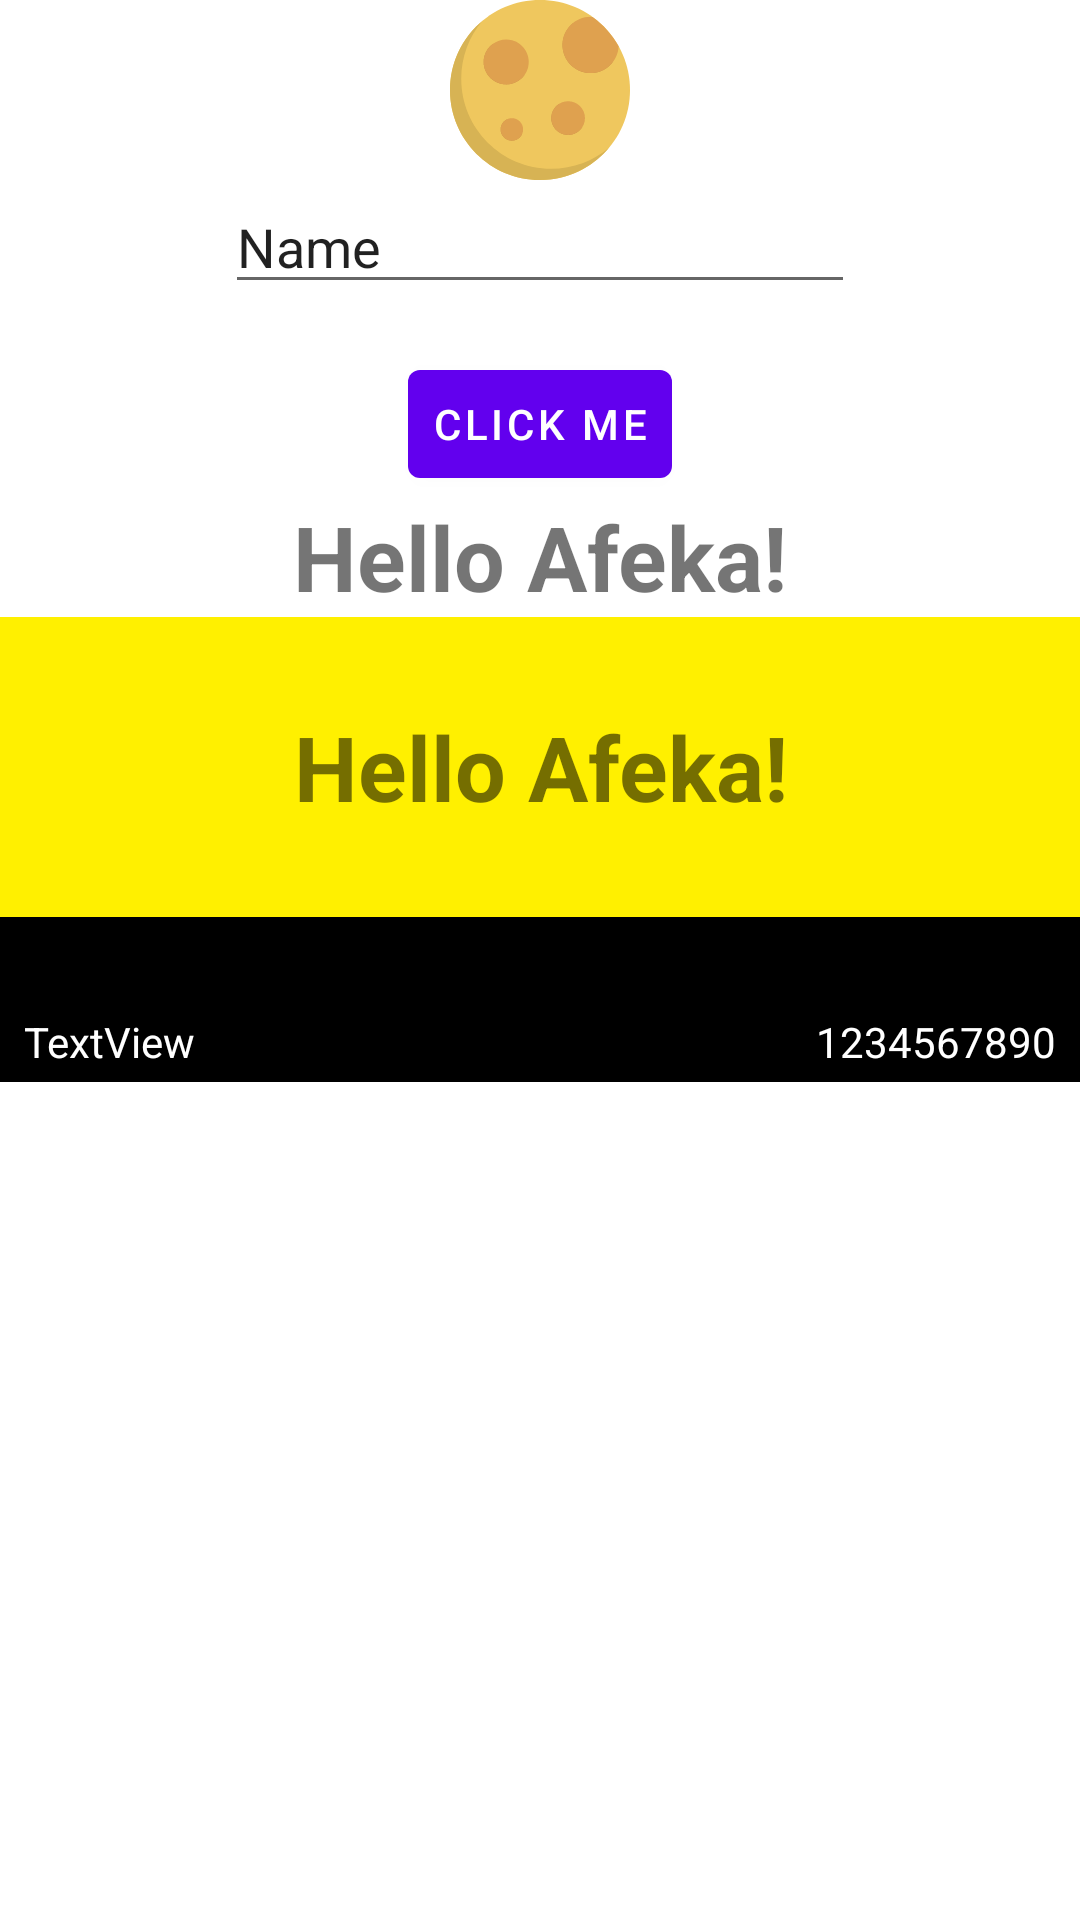

Point at icon controls on the screen. Image size 1080px×1920px, points as (x=x, y=y).
moon: (x=540, y=90)
